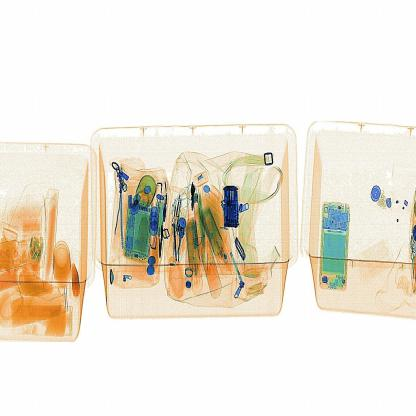scissors: (219, 178, 245, 234)
